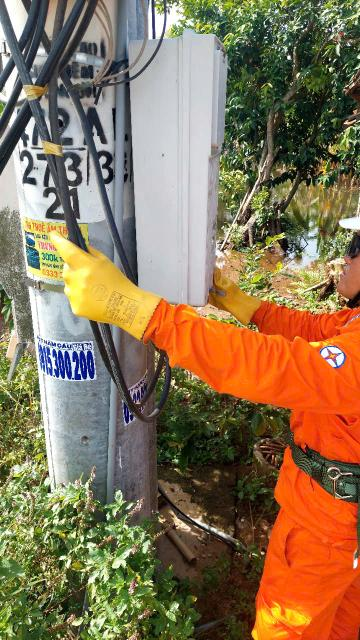gloves: (36, 227, 175, 352), (188, 252, 280, 326)
harness: (264, 426, 360, 514)
